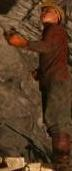boots: (44, 129, 72, 166), (0, 135, 9, 154)
gloves: (2, 26, 16, 40), (0, 41, 11, 55)
hard-hat: (0, 13, 11, 35)
